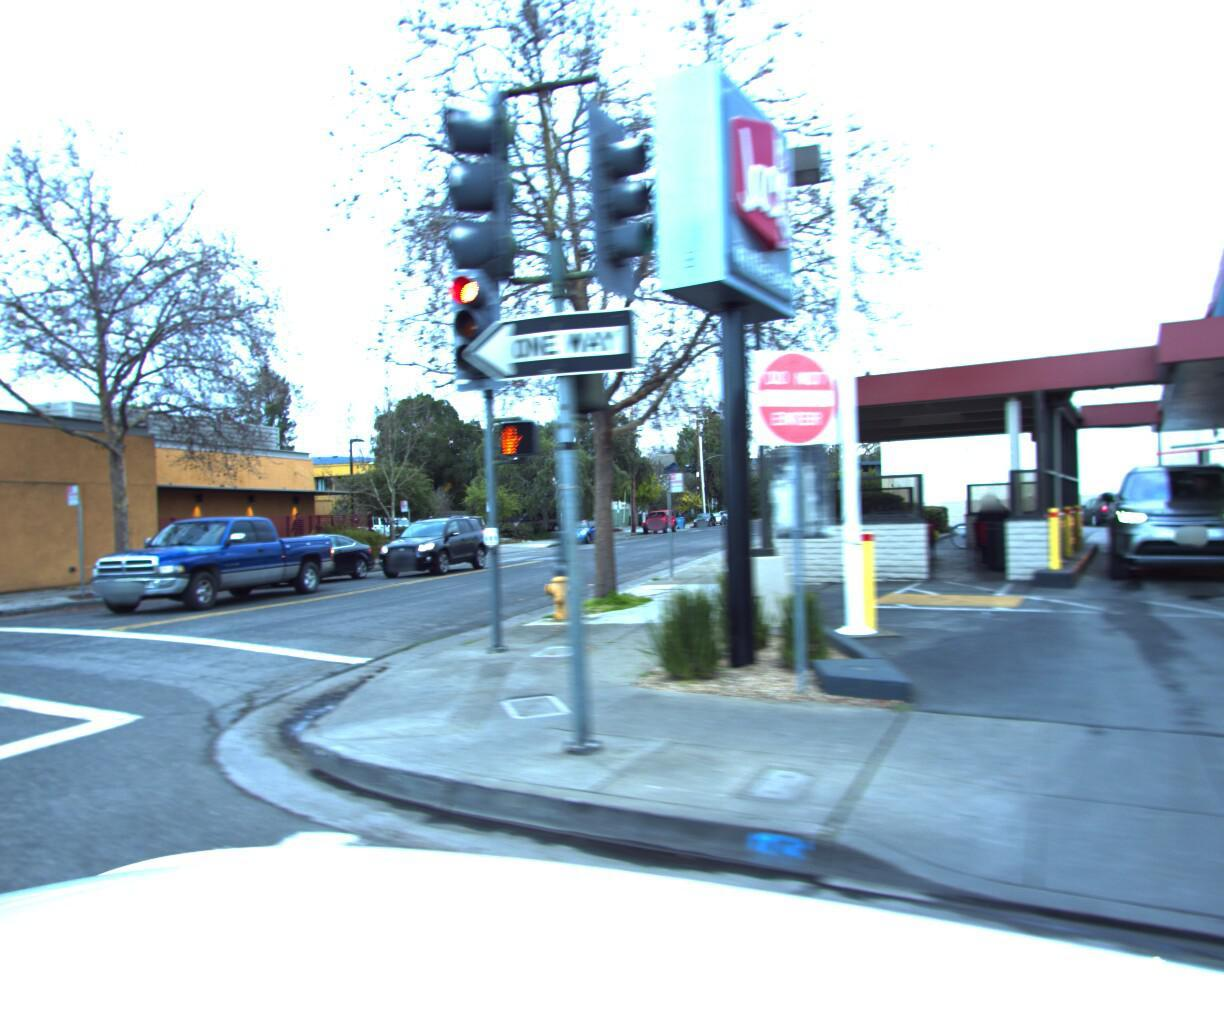car: (61, 506, 342, 622), (1095, 459, 1224, 587), (220, 526, 378, 591), (361, 508, 495, 578), (443, 507, 504, 540), (556, 513, 607, 541), (640, 502, 680, 530), (691, 506, 718, 522)
